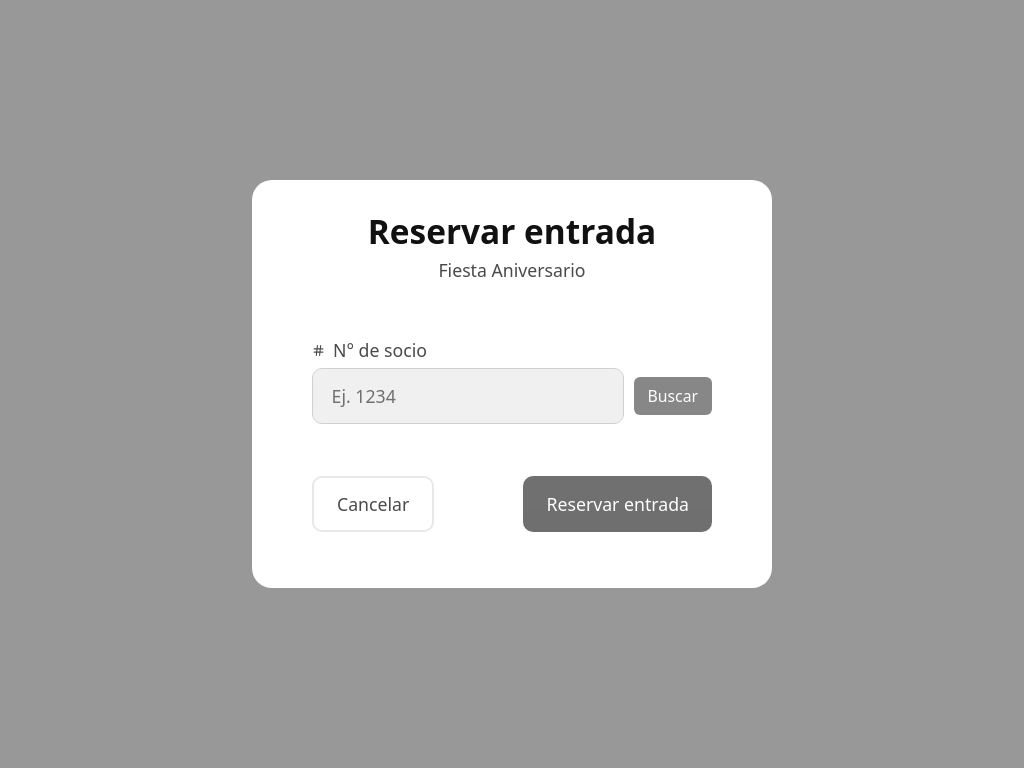
Test: ReservarEntradaForm › muestra el error de socio suspendido indicando el socio incumpliendo
The image size is (1024, 768).
Type "1234" into the field with placeholder "Ej. 1234".
click(468, 396); type("1234")  # box [312,368,624,424]
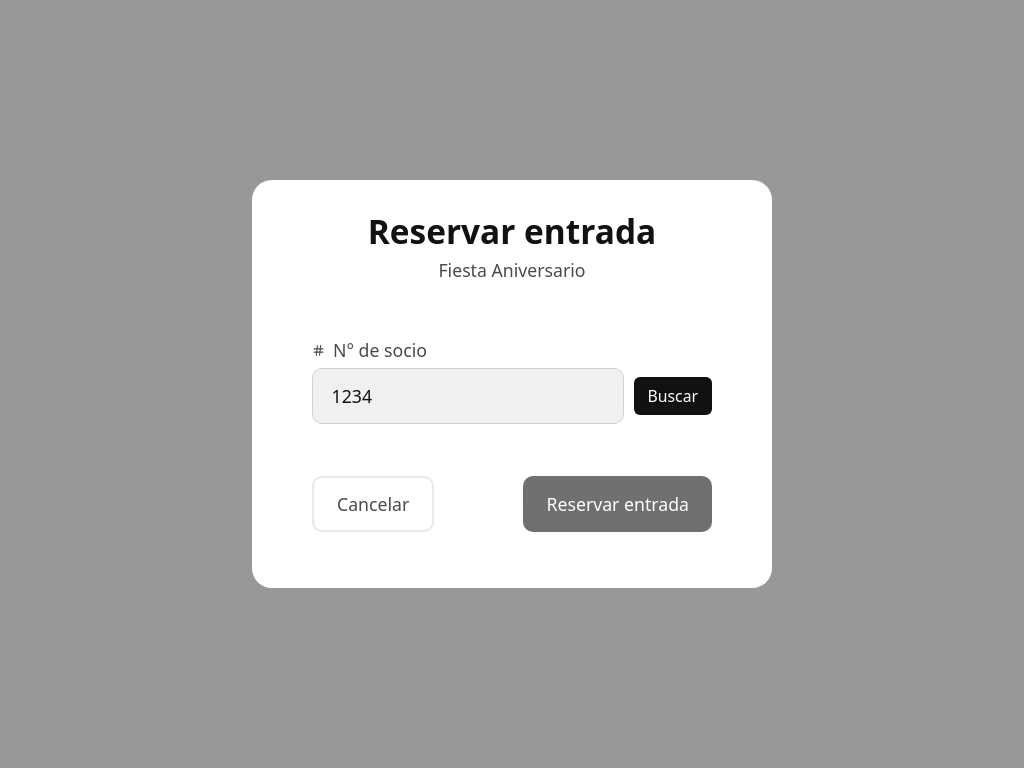
Click the button "Buscar".
click(673, 396)  # box [634,377,712,415]
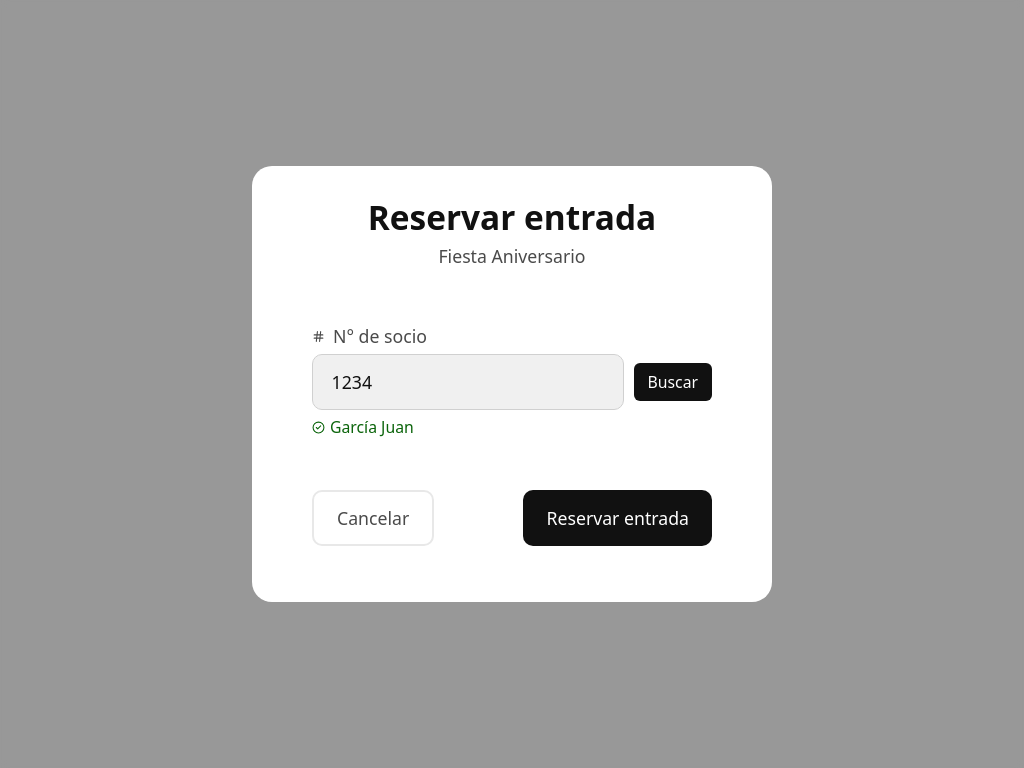
Check: the text "García Juan" is shown, box [312,416,414,438]
Click the button "Reservar entrada".
click(618, 518)  # box [524,490,712,546]
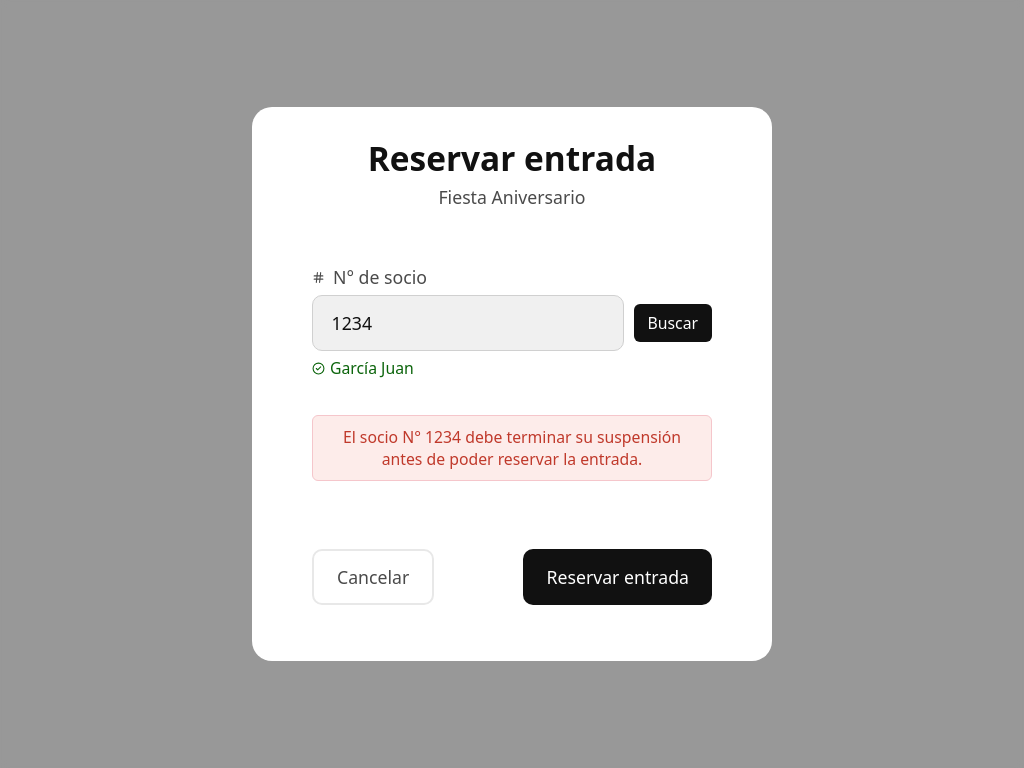
Check: the text "El socio N° 1234 debe terminar su suspensión antes de poder reservar la entrada." is shown, box [312,415,712,481]
